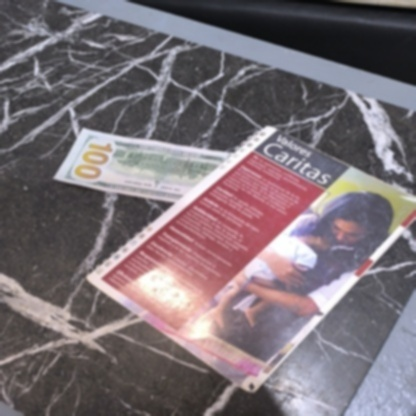one_hundred-back: (48, 126, 233, 203)
